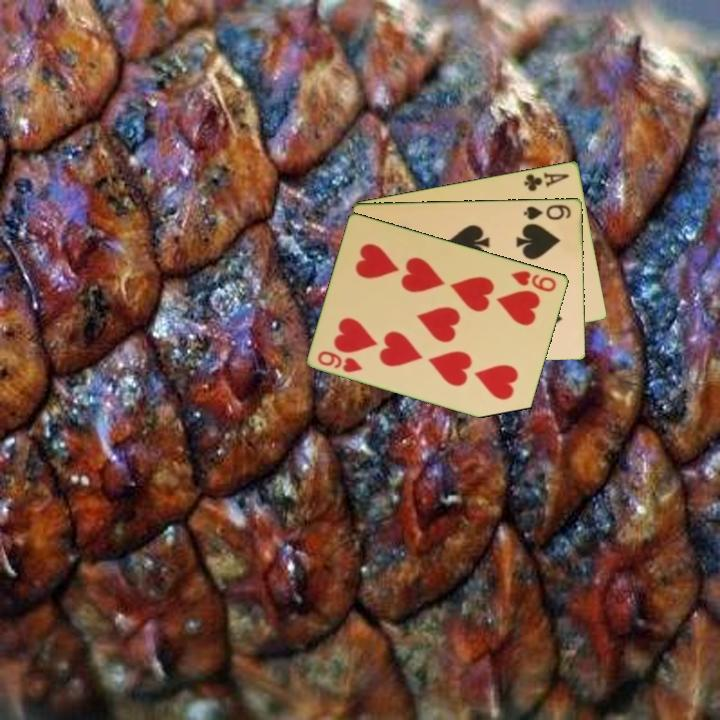6s: (521, 201, 574, 222)
9h: (508, 267, 560, 295), (314, 347, 366, 375)
Ac: (521, 168, 572, 194)
